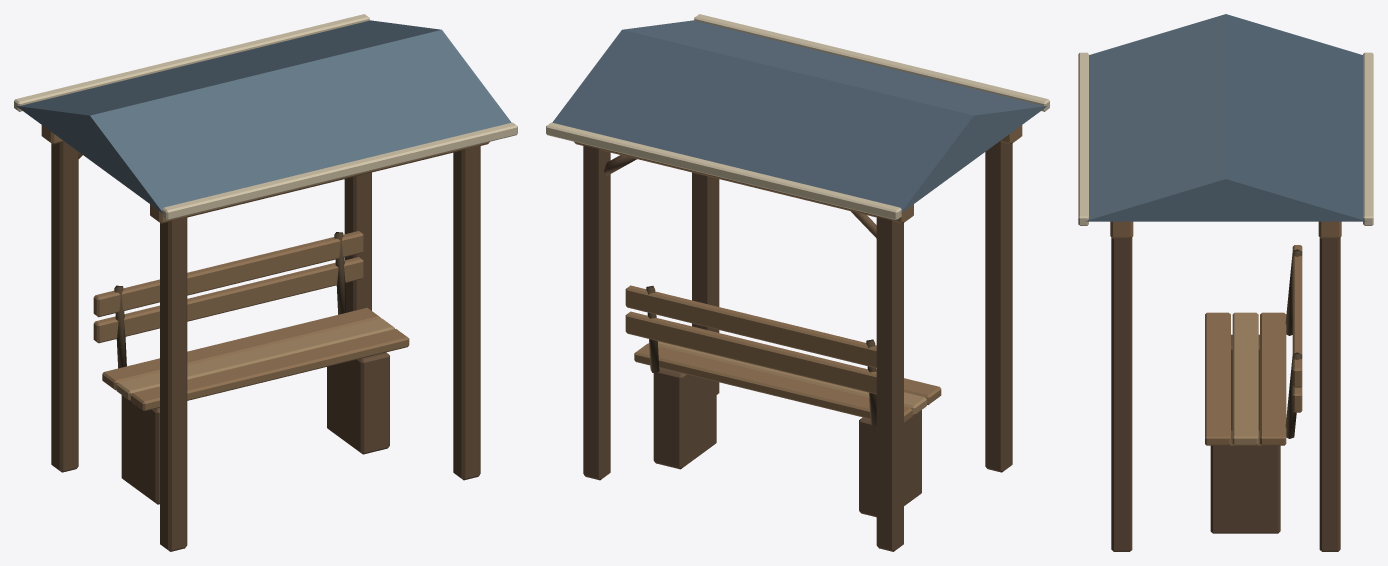
File: waiting_shelter.glb
3 views of the same model, side by side, from view 1: azimuth 30°, elevation 25°; view 2: azimuth 150°, elevation 25°; view 3: azimuth 270°, elevation 25° (orthographic). The views are drawn at different scales.
Parts seen in each view (by area): view 1: waiting_shelter; view 2: waiting_shelter; view 3: waiting_shelter.
Part boxes in pixels (left/top/right/bottom): waiting_shelter: left=14, top=14, right=517, bottom=551; waiting_shelter: left=546, top=14, right=1049, bottom=551; waiting_shelter: left=1078, top=14, right=1373, bottom=551.
Bounding box in the file's own units: 2.4 × 2.6 × 1.82.
